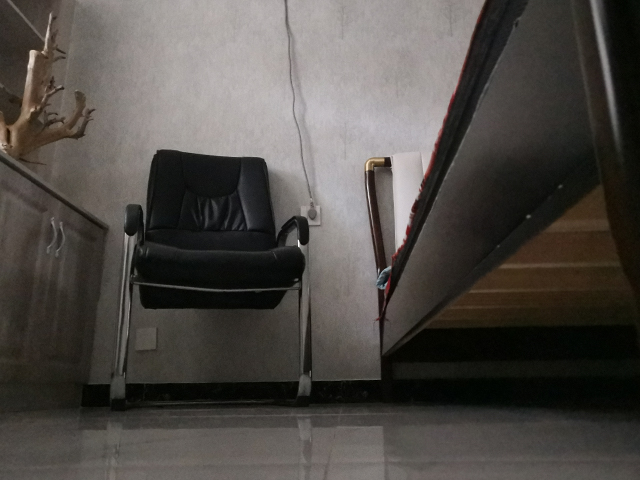bed: (362, 1, 640, 404)
cabinet: (1, 150, 110, 414)
stool: (105, 147, 315, 412)
